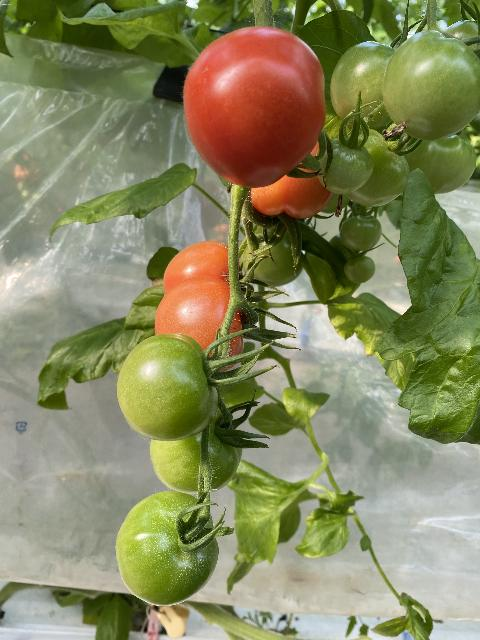l_fully_ripened: (182, 26, 326, 189), (155, 276, 244, 374), (251, 139, 335, 218), (163, 240, 244, 302)
l_green: (116, 490, 220, 607), (116, 332, 219, 442), (382, 30, 480, 142), (151, 408, 244, 495), (331, 40, 395, 131), (345, 129, 410, 208), (401, 134, 476, 194), (315, 138, 375, 195), (244, 230, 304, 287), (339, 215, 382, 251), (343, 256, 376, 283)
